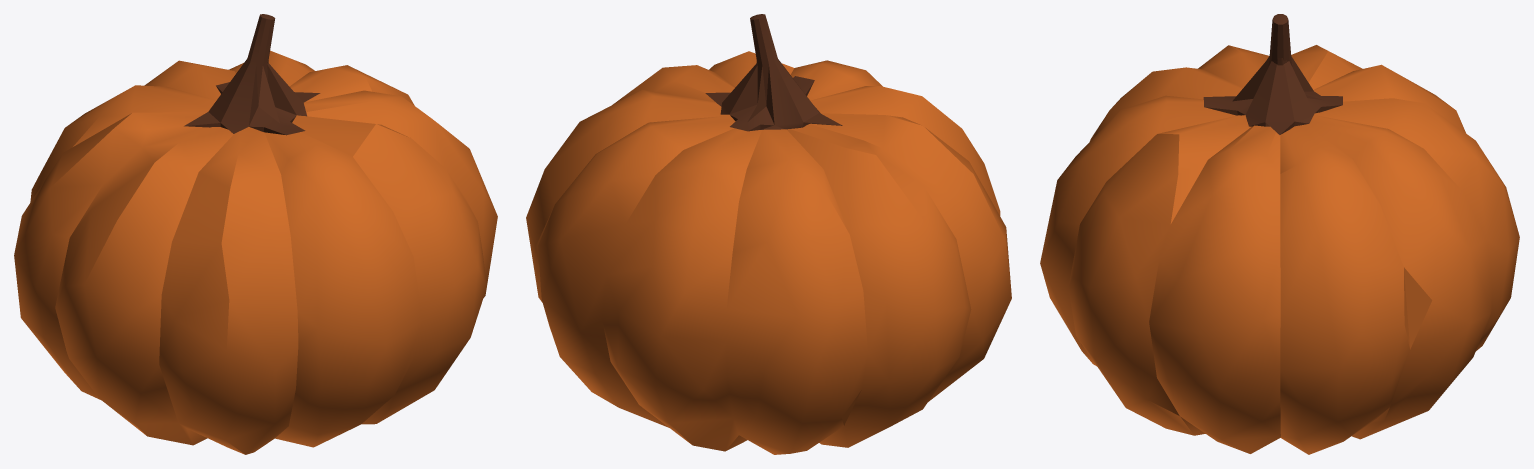
The model's file is pumpkin.fbx.
The picture shows the model from 3 angles, left to right: view 1: azimuth 30°, elevation 25°; view 2: azimuth 150°, elevation 25°; view 3: azimuth 270°, elevation 25°; orthographic projection.
Visible parts, largest first — view 1: Sphere, Sphere.001; view 2: Sphere, Sphere.001; view 3: Sphere, Sphere.001.
Part boxes in pixels (bbox=[...]): Sphere: bbox=[14, 50, 497, 454]; Sphere.001: bbox=[184, 14, 320, 135]; Sphere: bbox=[526, 51, 1011, 454]; Sphere.001: bbox=[705, 14, 842, 131]; Sphere: bbox=[1040, 45, 1519, 454]; Sphere.001: bbox=[1203, 14, 1342, 134].
Bounding box in the file's own units: 238 × 218 × 235.
